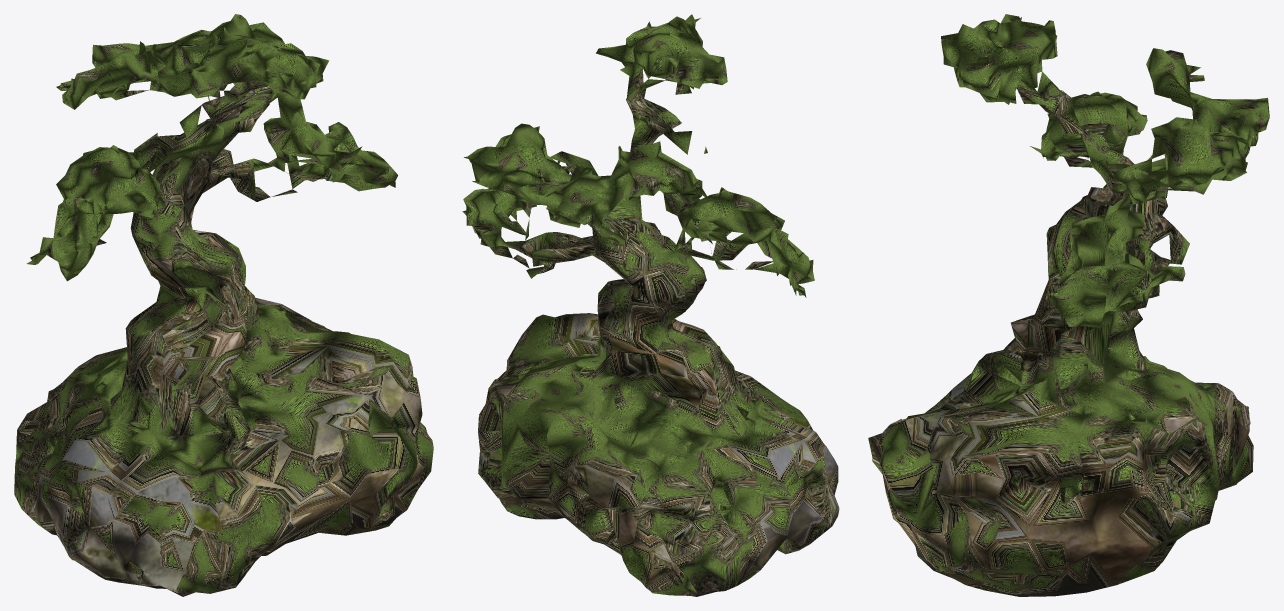
Rendered from bonsai-rock.glb.
The picture shows the model from 3 angles, left to right: view 1: azimuth 30°, elevation 25°; view 2: azimuth 150°, elevation 25°; view 3: azimuth 270°, elevation 25°; orthographic projection. The views are drawn at different scales.
Size of the model in its own units: 1.5 by 2 by 1.41.
Materials: 1 (1 with a texture image).
